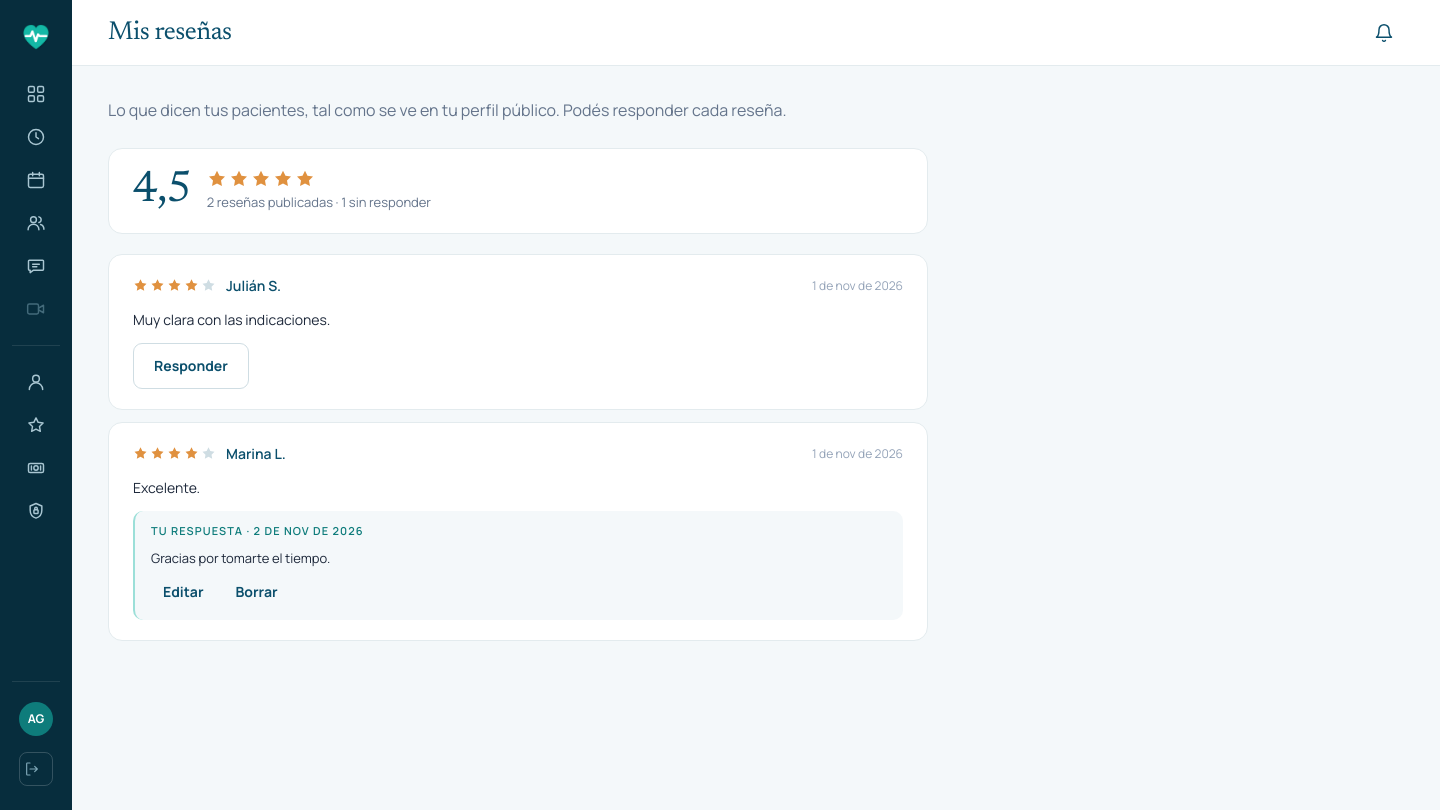
Test: Mis reseñas (ENG-106) › el editor avisa que no hay que incluir datos de salud ni del paciente
Click the button "Responder" at [191, 366], box [133,343,249,389]
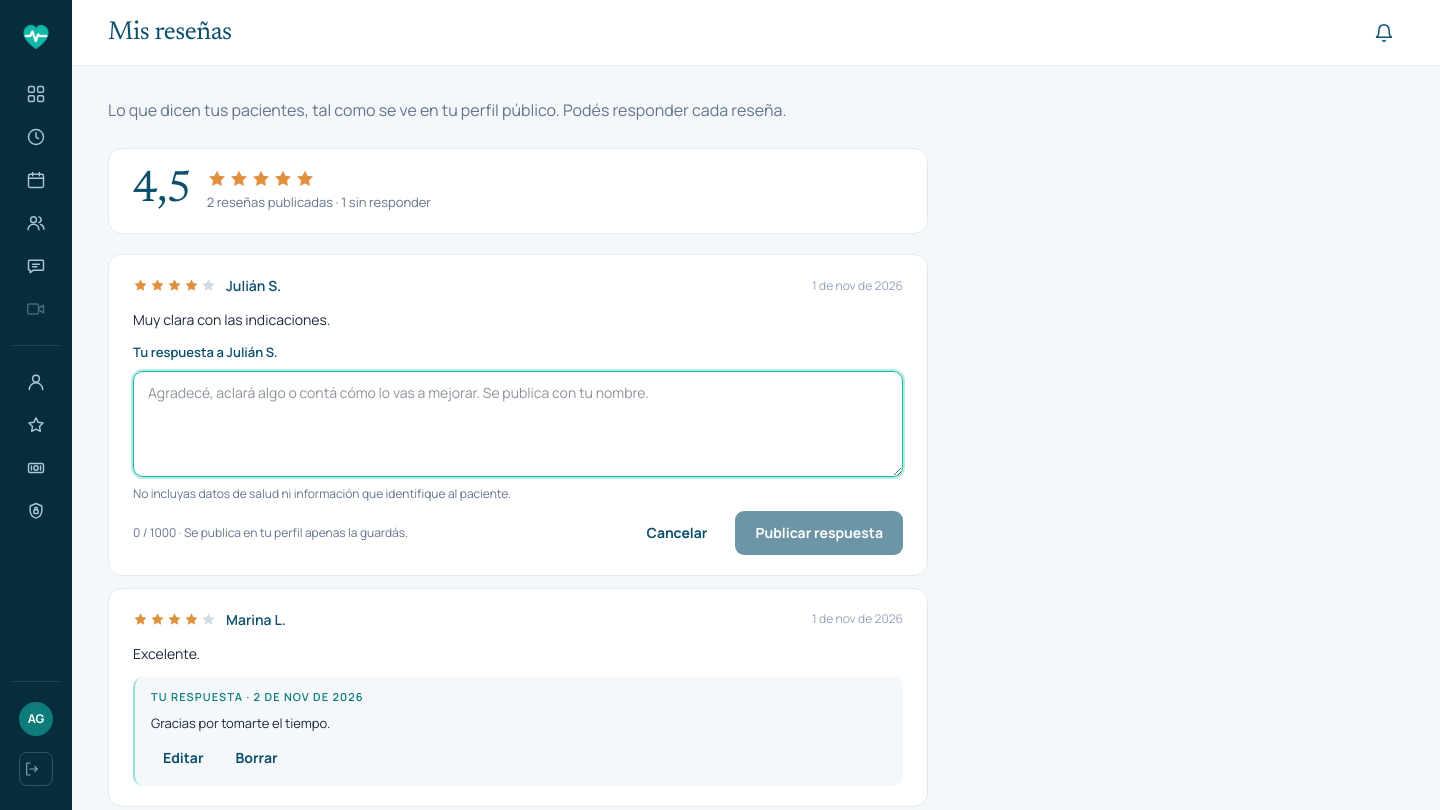
Now the text "No incluyas datos de salud ni información que identifique al paciente." is shown, box [133,485,511,502]
